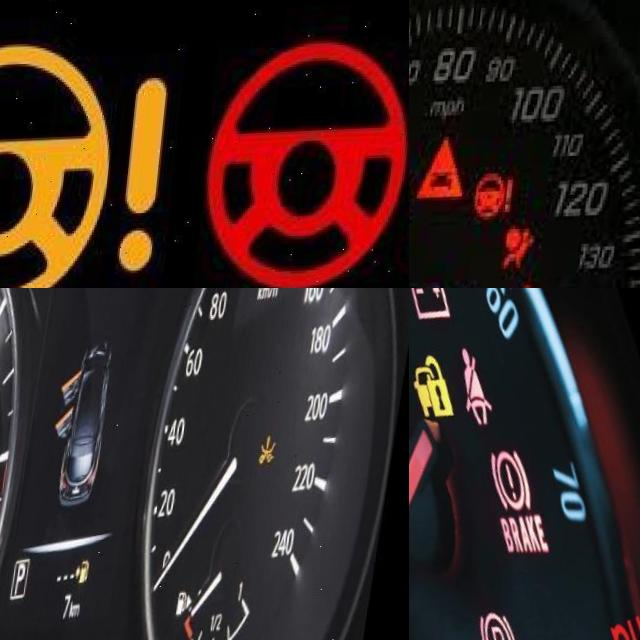Electronic Power Steering: (477, 175, 524, 225)
Electronic Power Steering Warning: (205, 40, 409, 288), (0, 38, 178, 288)
Seat Belt: (459, 353, 501, 432)
